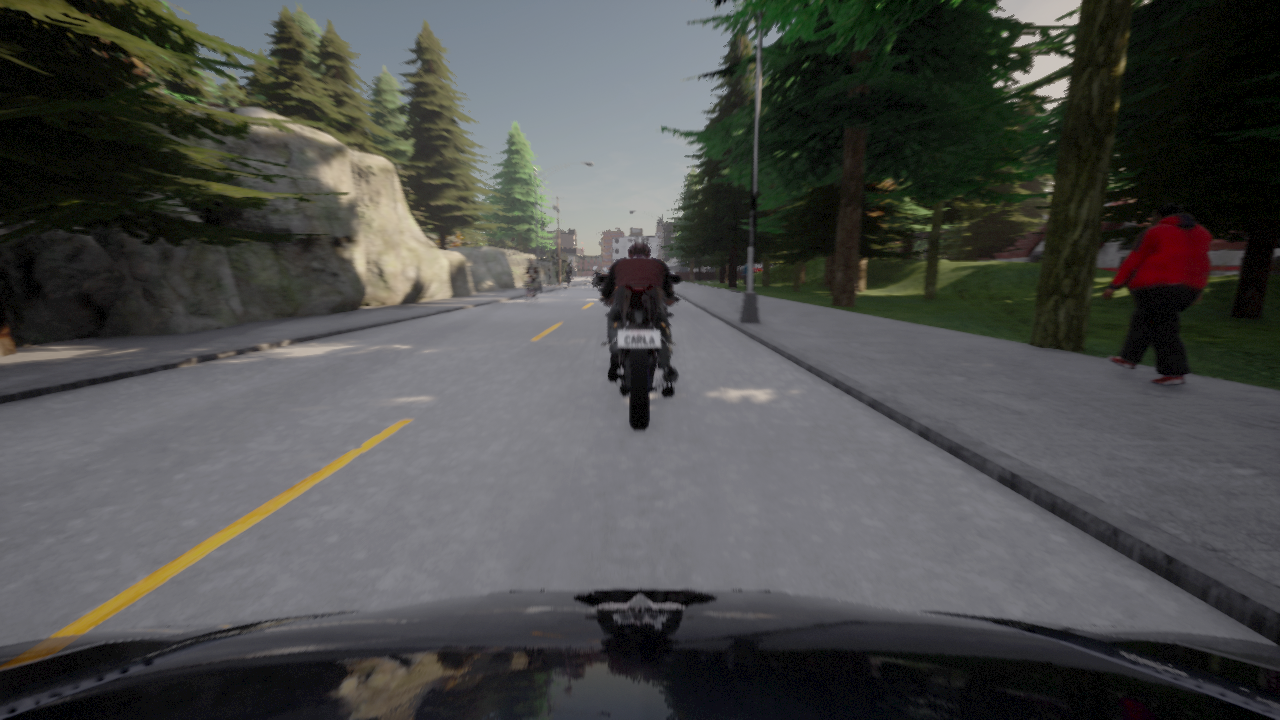cyclist: (0, 588, 1279, 719), (598, 274, 680, 429), (526, 277, 535, 306), (589, 273, 600, 290), (670, 272, 673, 273)
pedestrian: (1101, 201, 1211, 385), (741, 259, 748, 291), (546, 264, 551, 286), (565, 266, 571, 284)
